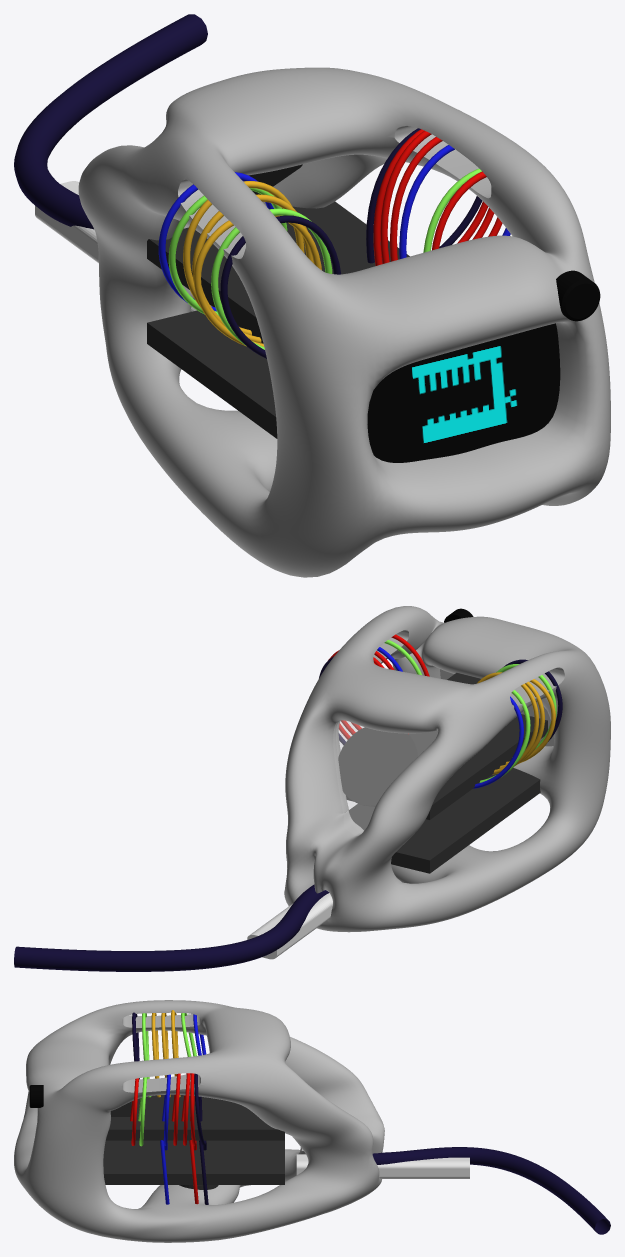
File: FART_05.glb
The picture shows the model from 3 angles, top to bottom: view 1: azimuth 30°, elevation 25°; view 2: azimuth 150°, elevation 25°; view 3: azimuth 270°, elevation 25°; orthographic projection. The views are drawn at different scales.
Parts seen in each view (by area): view 1: Cube, Cube.004, NurbsPath.017, Cube.005, Cube.003, NurbsPath.011, Cylinder.002, NurbsPath.009, NurbsPath.004, NurbsPath.010, NurbsPath.002, Cube.002 (+7 smaller); view 2: Cube, NurbsPath.017, Cube.005, Cube.009, Cylinder, Cube.003, Cube.002, NurbsPath.007, NurbsPath.013, NurbsPath.009; view 3: Cube, Cube.005, Cube.003, NurbsPath.017, Cube.002, NurbsPath.004, NurbsPath.001, NurbsPath.002, NurbsPath, NurbsPath.005, NurbsPath.006, Cylinder.002 (+1 smaller).
Boxes of the visible parts, x1,y1,x2,y2 form: Cube: [78, 67, 610, 577]; Cube.004: [367, 323, 560, 462]; NurbsPath.017: [14, 14, 207, 229]; Cube.005: [147, 310, 277, 438]; Cube.003: [147, 201, 409, 343]; NurbsPath.011: [220, 215, 340, 358]; Cylinder.002: [556, 270, 600, 321]; NurbsPath.009: [194, 215, 321, 346]; NurbsPath.004: [366, 128, 482, 263]; NurbsPath.010: [211, 208, 332, 349]; NurbsPath.002: [380, 130, 494, 263]; Cube.002: [35, 181, 211, 311]; Cube: [284, 606, 610, 932]; NurbsPath.017: [14, 884, 329, 971]; Cube.005: [349, 767, 540, 873]; Cube.009: [333, 720, 437, 835]; Cylinder: [338, 727, 417, 806]; Cube.003: [346, 714, 547, 819]; Cube.002: [247, 893, 332, 959]; NurbsPath.007: [477, 672, 538, 774]; NurbsPath.013: [473, 696, 523, 788]; NurbsPath.009: [505, 679, 555, 764]; Cube: [14, 1000, 384, 1242]; Cube.005: [103, 1140, 284, 1184]; Cube.003: [106, 1094, 284, 1140]; NurbsPath.017: [372, 1147, 610, 1234]; Cube.002: [296, 1154, 469, 1178]; NurbsPath.004: [194, 1073, 206, 1145]; NurbsPath.001: [171, 1073, 180, 1145]; NurbsPath.002: [181, 1073, 190, 1145]; NurbsPath: [162, 1074, 170, 1145]; NurbsPath.005: [138, 1077, 147, 1146]; NurbsPath.006: [130, 1078, 138, 1145]; Cylinder.002: [29, 1085, 43, 1107].
Size of the model in its own units: 4.21 by 3.37 by 9.61.
Materials: 10 (1 with a texture image).
